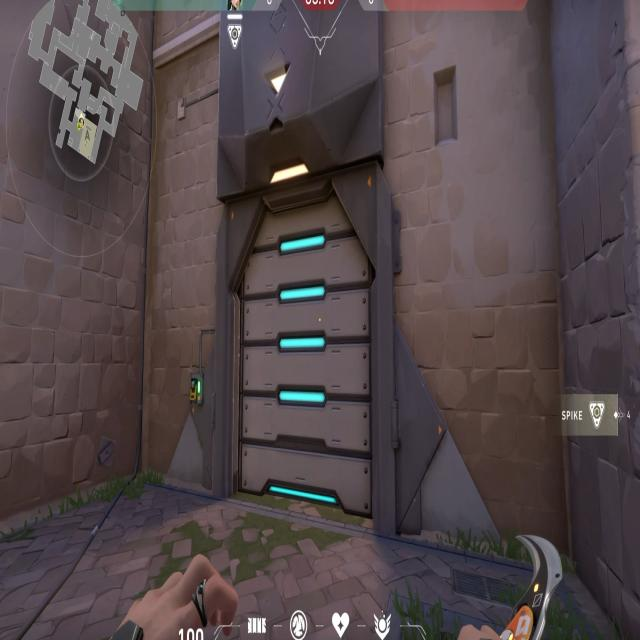A_Door: (214, 154, 388, 519)
